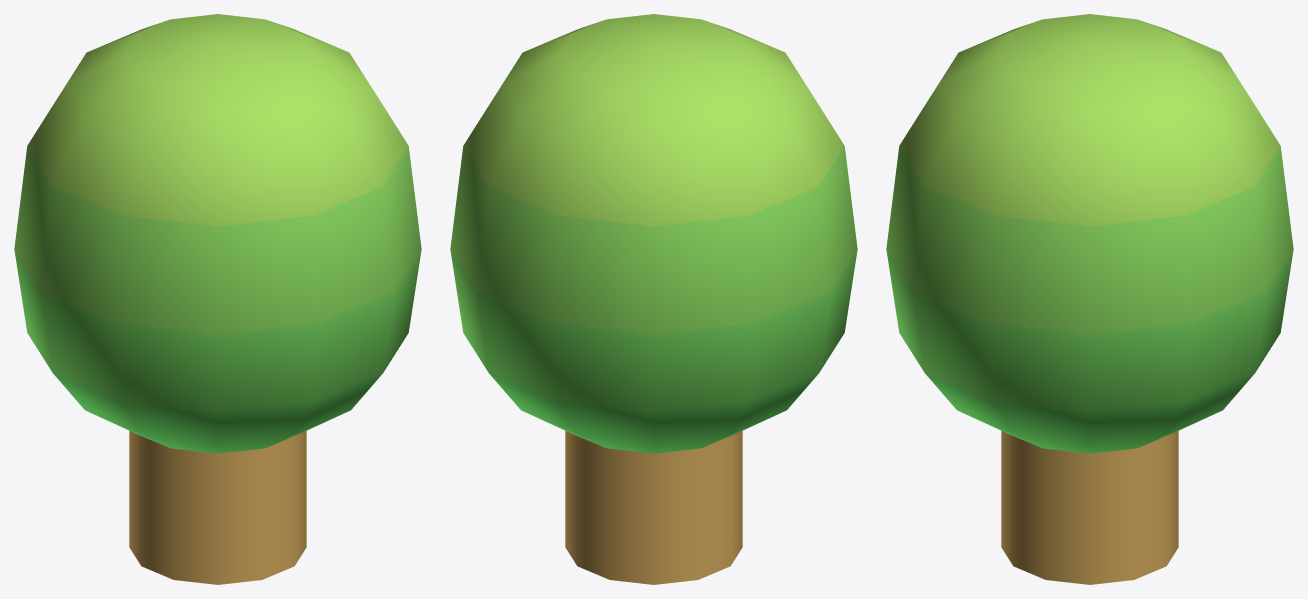
File: tree_s.fbx
The picture shows the model from 3 angles, left to right: view 1: azimuth 30°, elevation 25°; view 2: azimuth 150°, elevation 25°; view 3: azimuth 270°, elevation 25°; orthographic projection.
Parts seen in each view (by area): view 1: tree_s; view 2: tree_s; view 3: tree_s.
Boxes of the visible parts, left/top/right/bottom form: tree_s: left=14, top=14, right=421, bottom=584; tree_s: left=450, top=14, right=857, bottom=584; tree_s: left=886, top=14, right=1293, bottom=584.
Size of the model in its own units: 138 by 190 by 138.
